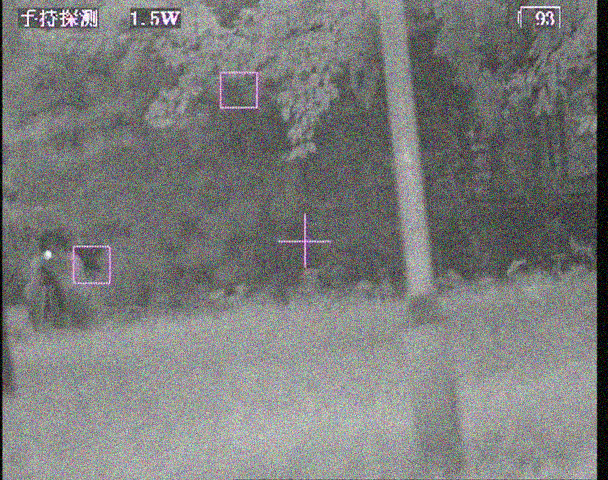my: (41, 248, 55, 262)
